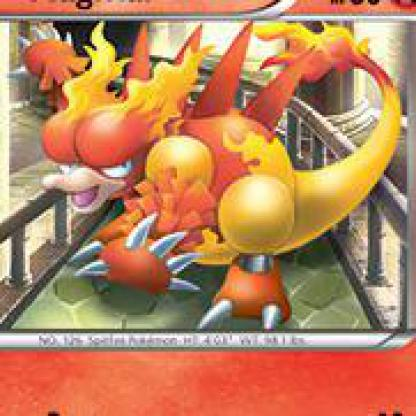Magmar: (1, 17, 415, 415)
